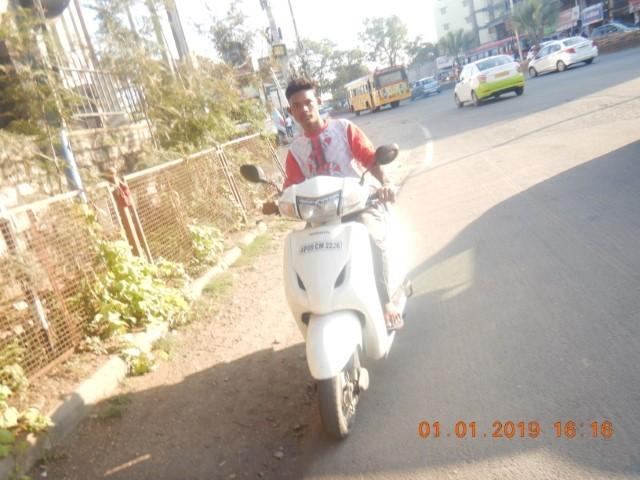plate: (298, 239, 346, 256)
